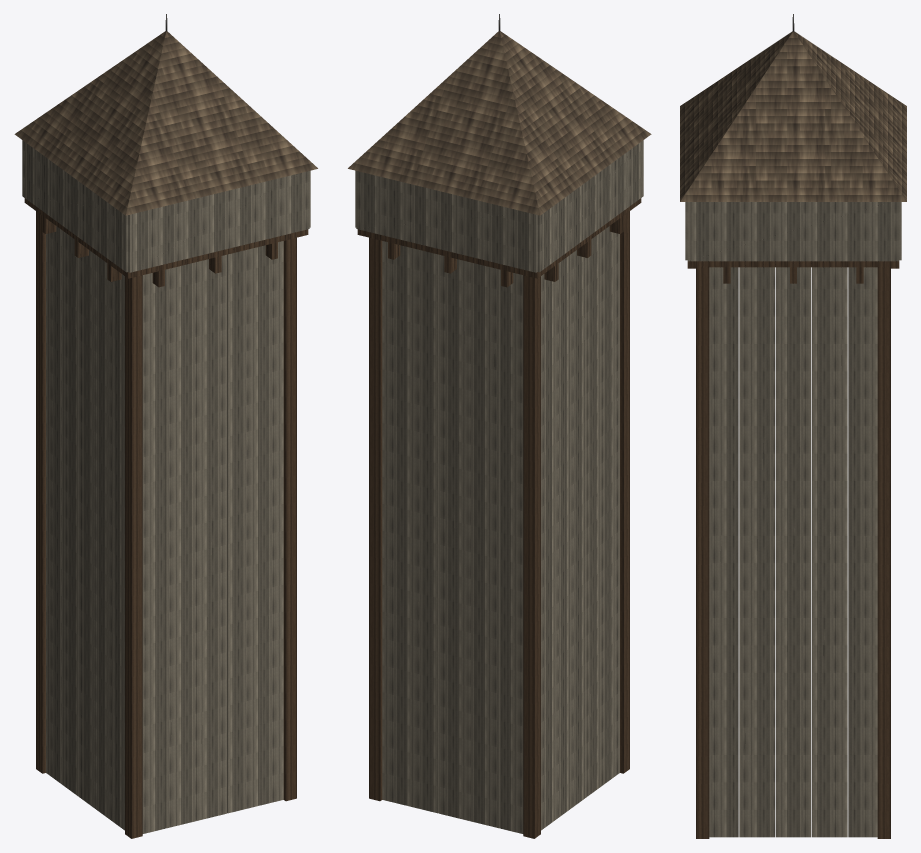
The model's file is Tower_Rampart_Wood_1_LOD1.gltf.
The picture shows the model from 3 angles, left to right: view 1: azimuth 30°, elevation 25°; view 2: azimuth 150°, elevation 25°; view 3: azimuth 270°, elevation 25°; orthographic projection.
Parts seen in each view (by area): view 1: Tower_Rampart_Wood_1_LOD1; view 2: Tower_Rampart_Wood_1_LOD1; view 3: Tower_Rampart_Wood_1_LOD1.
Part boxes in pixels (<box>): Tower_Rampart_Wood_1_LOD1: <box>14,14,317,838</box>; Tower_Rampart_Wood_1_LOD1: <box>348,14,651,838</box>; Tower_Rampart_Wood_1_LOD1: <box>680,14,906,838</box>.
Size of the model in its own units: 7.5 by 28.6 by 7.5.
4 materials, 4 textured.
